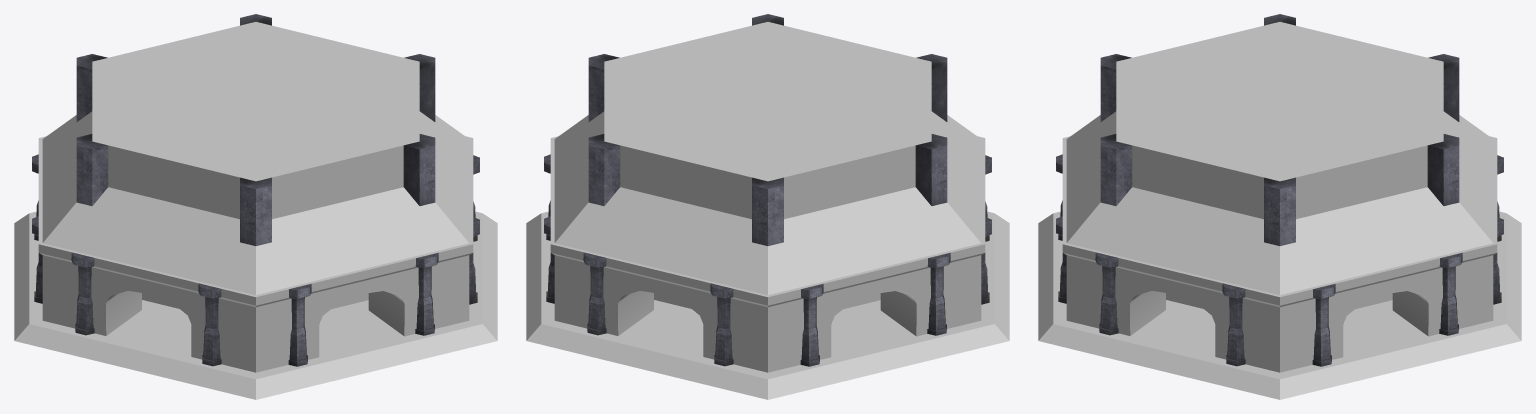
File: Tower_baseBlock_v02.fbx
3 renders of one model, left to right at view 1: azimuth 30°, elevation 25°; view 2: azimuth 150°, elevation 25°; view 3: azimuth 270°, elevation 25°, orthographic.
Parts seen in each view (by area): view 1: BaseWalls (×6), HexColumn01 (×5), BaseColumn02 (×3), BaseColumn01 (×3); view 2: BaseWalls (×6), HexColumn01 (×5), BaseColumn02 (×3), BaseColumn01 (×3); view 3: BaseWalls (×6), HexColumn01 (×5), BaseColumn02 (×3), BaseColumn01 (×3).
Part boxes in pixels (x1,y1,x2,y2): BaseWalls (×6): [14, 22, 497, 399]; HexColumn01 (×5): [76, 54, 435, 245]; BaseColumn02 (×3): [32, 216, 438, 366]; BaseColumn01 (×3): [71, 217, 479, 366]; BaseWalls (×6): [526, 22, 1009, 399]; HexColumn01 (×5): [588, 54, 947, 245]; BaseColumn02 (×3): [544, 216, 950, 366]; BaseColumn01 (×3): [583, 217, 991, 366]; BaseWalls (×6): [1038, 22, 1521, 399]; HexColumn01 (×5): [1100, 54, 1459, 245]; BaseColumn02 (×3): [1056, 216, 1462, 366]; BaseColumn01 (×3): [1095, 217, 1503, 366].
Size of the model in its own units: 12.1 by 4.32 by 10.48.
